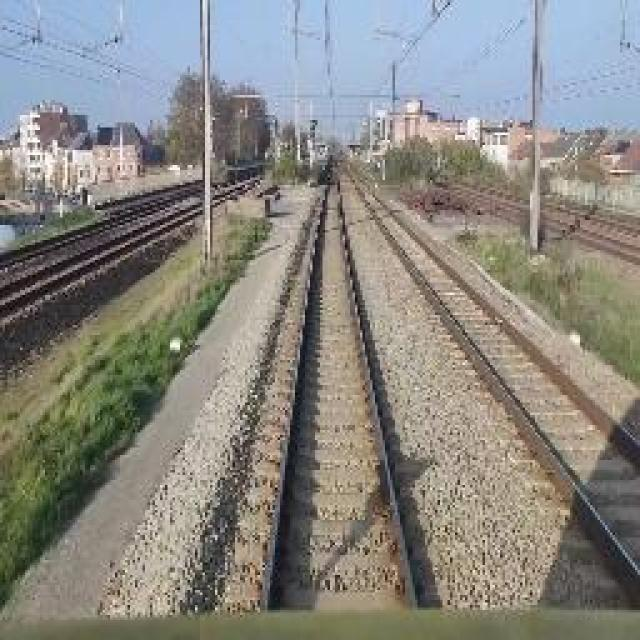rail: (349, 154, 637, 613), (214, 158, 448, 614)
